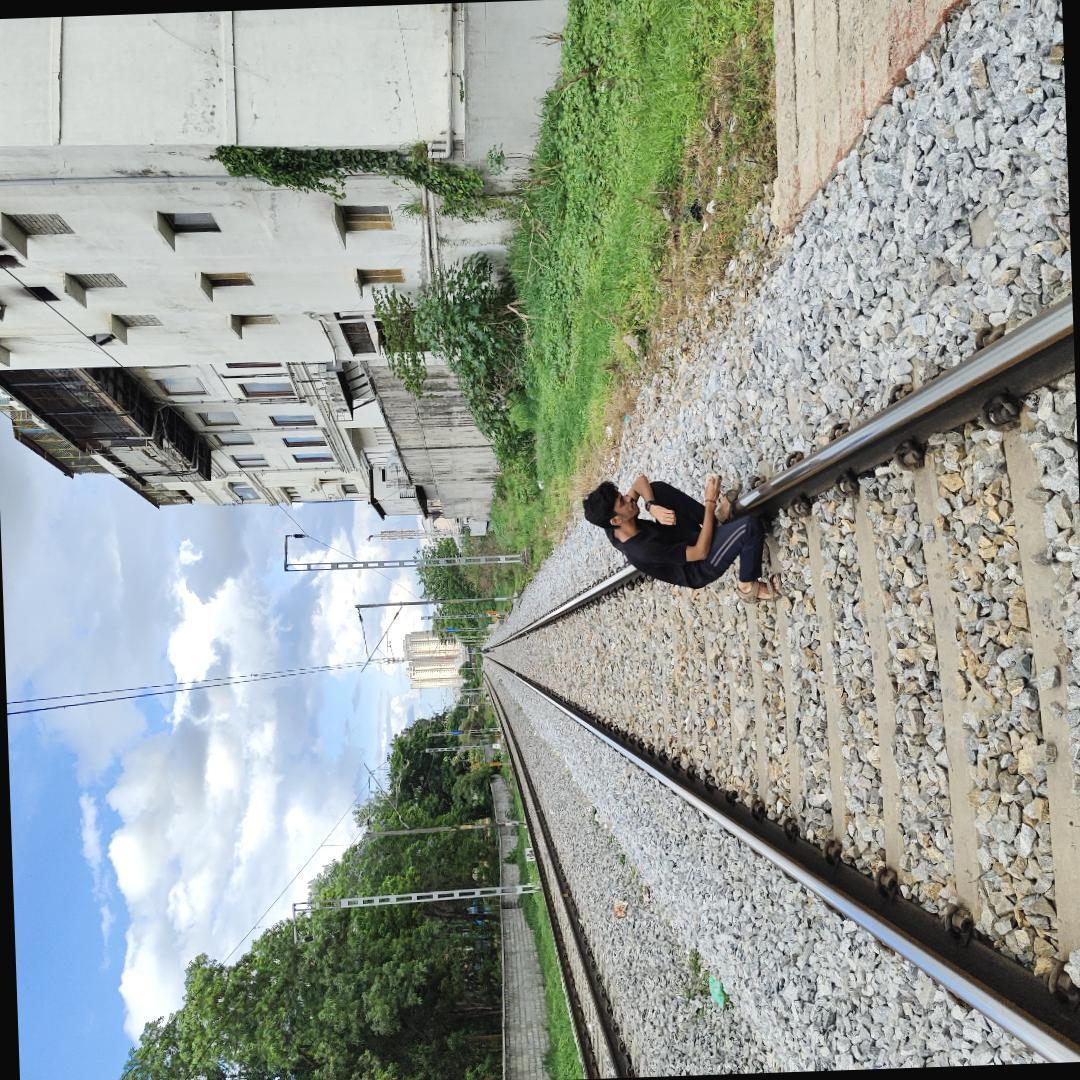sitting: (575, 473, 777, 607)
